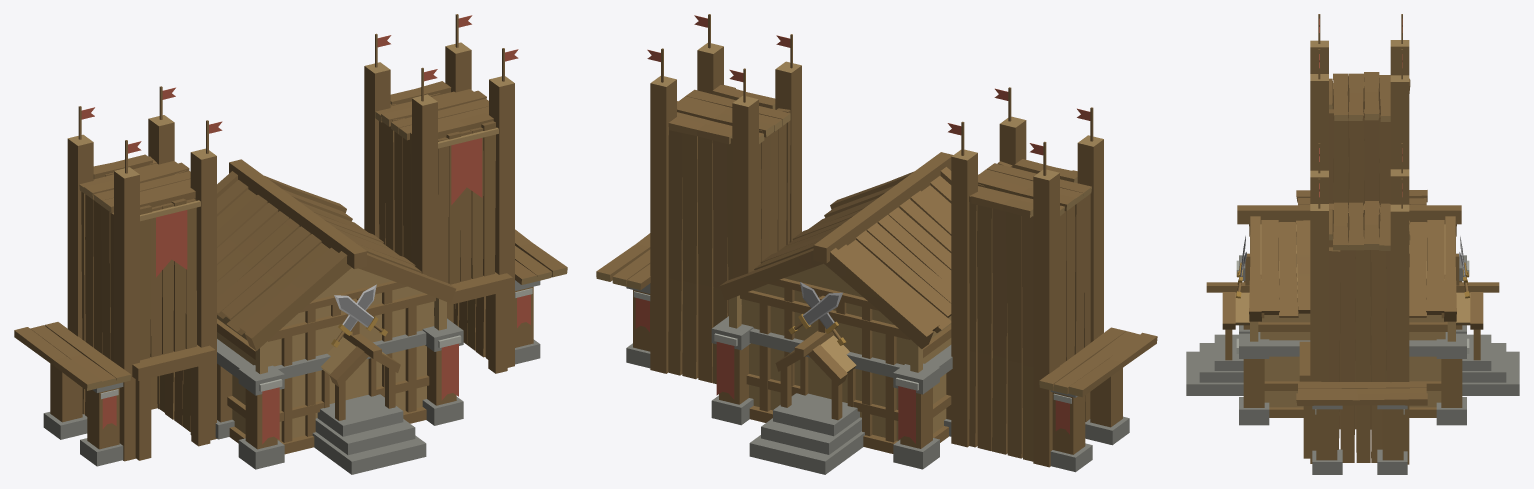
File: project.glb
3 renders of one model, left to right at view 1: azimuth 30°, elevation 25°; view 2: azimuth 150°, elevation 25°; view 3: azimuth 270°, elevation 25°, orthographic. The views are drawn at different scales.
Parts seen in each view (by area): view 1: Barracks_FirstAge_Level3; view 2: Barracks_FirstAge_Level3; view 3: Barracks_FirstAge_Level3.
Part boxes in pixels (x1=…): Barracks_FirstAge_Level3: x1=14, y1=14, x2=567, y2=474; Barracks_FirstAge_Level3: x1=596, y1=14, x2=1157, y2=474; Barracks_FirstAge_Level3: x1=1186, y1=14, x2=1519, y2=474.
Size of the model in its own units: 2.33 by 1.47 by 1.57.
1 material, 1 textured.
